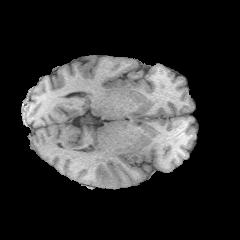glioma: (84, 158, 126, 187)
